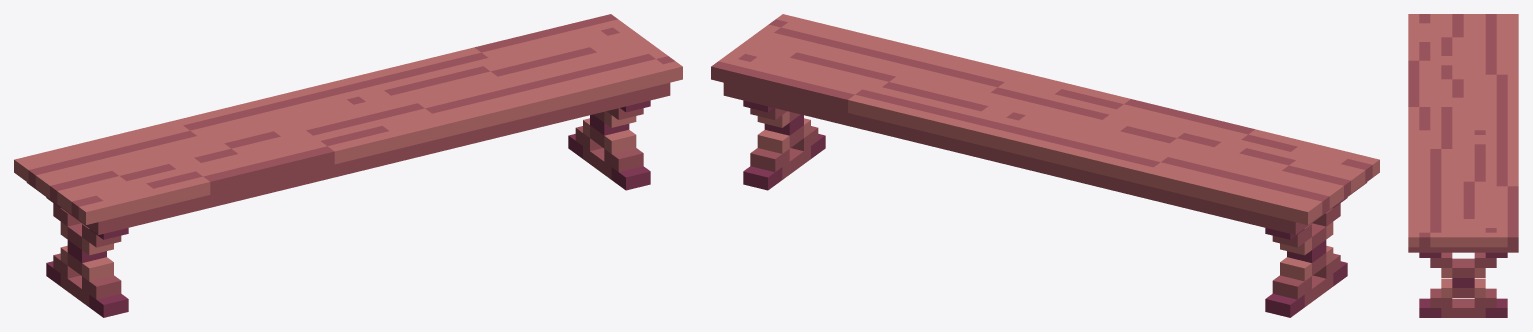
The model's file is bench.obj.
The picture shows the model from 3 angles, left to right: view 1: azimuth 30°, elevation 25°; view 2: azimuth 150°, elevation 25°; view 3: azimuth 270°, elevation 25°; orthographic projection. The views are drawn at different scales.
Visible parts, largest first — view 1: bench; view 2: bench; view 3: bench.
Boxes of the visible parts, x1,y1,x2,y2 form: bench: (14,14,682,317); bench: (711,14,1379,317); bench: (1408,14,1518,317).
Bounding box in the file's own units: 39.34 × 7.38 × 8.2.
